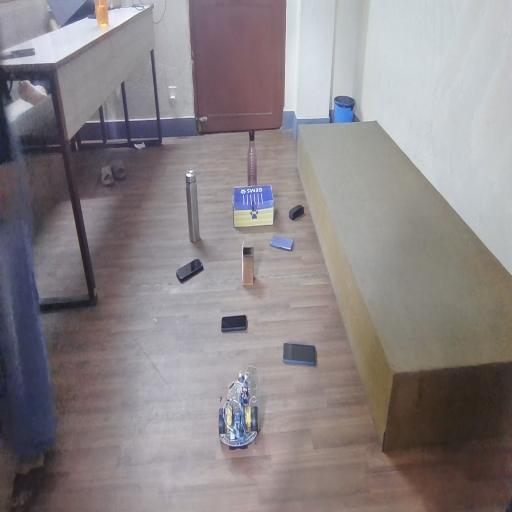Bottle: (239, 118, 261, 184)
car: (201, 368, 279, 439)
